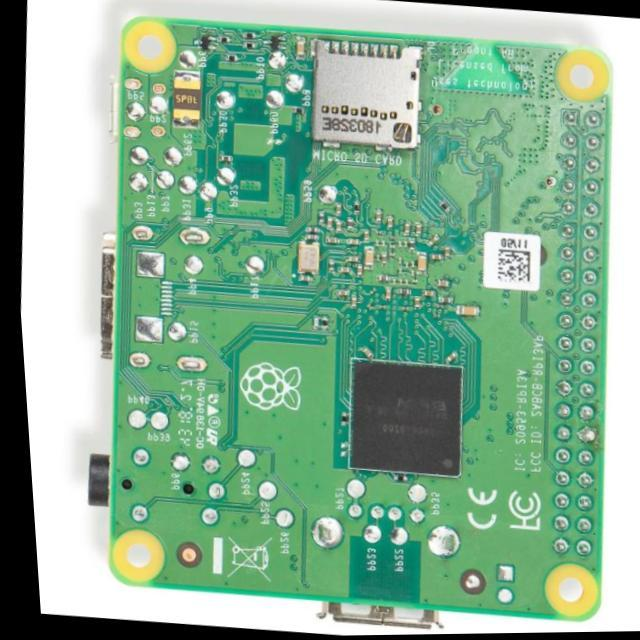Raspberry-Pi-3-A-: (102, 17, 613, 627)
